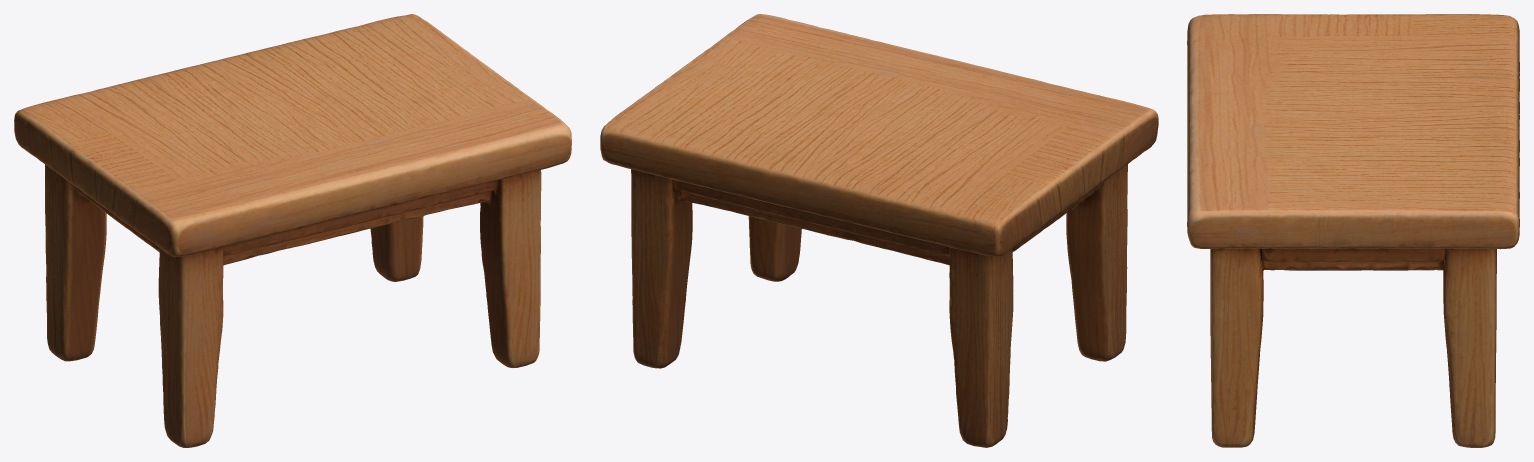
Rendered from table_raw.glb.
3 views of the same model, side by side, from view 1: azimuth 30°, elevation 25°; view 2: azimuth 150°, elevation 25°; view 3: azimuth 270°, elevation 25° (orthographic). The views are drawn at different scales.
Parts seen in each view (by area): view 1: texture_mapping; view 2: texture_mapping; view 3: texture_mapping.
Part boxes in pixels (x1=…): texture_mapping: x1=14, y1=14, x2=571, y2=447; texture_mapping: x1=600, y1=14, x2=1158, y2=447; texture_mapping: x1=1187, y1=14, x2=1519, y2=447.
Bounding box in the file's own units: 0.9961 × 0.5768 × 0.6967.
Materials: 1 (1 with a texture image).
